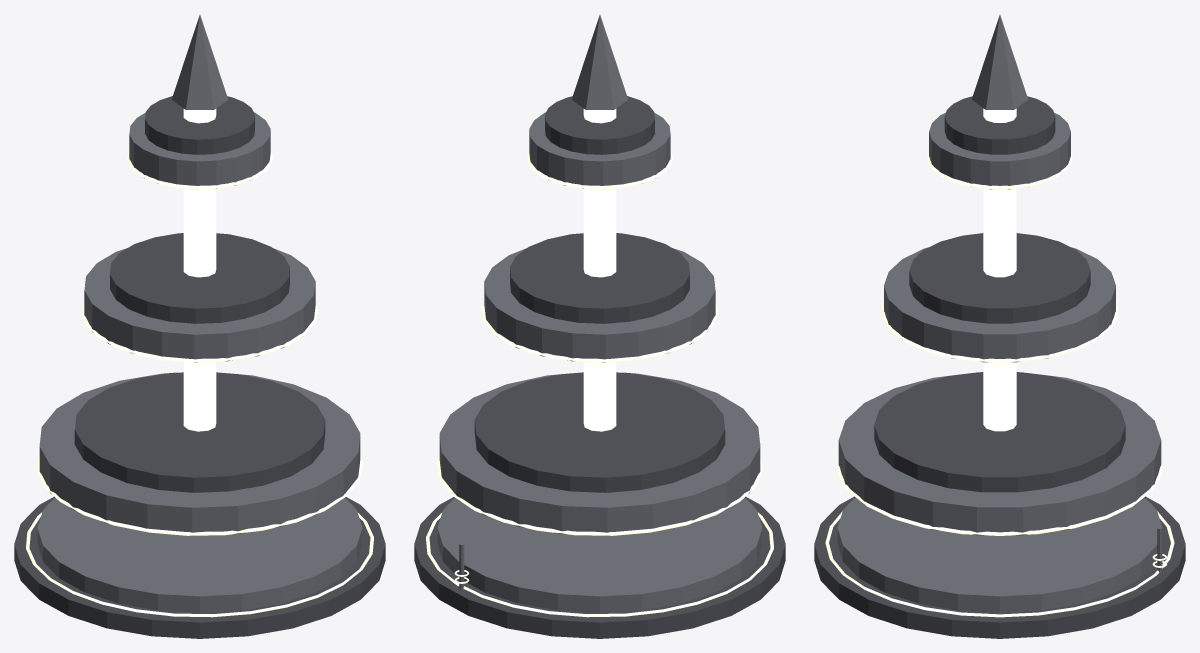
Rendered from zone_high_2_t2.glb.
3 views of the same model, side by side, from view 1: azimuth 30°, elevation 25°; view 2: azimuth 150°, elevation 25°; view 3: azimuth 270°, elevation 25° (orthographic).
Parts seen in each view (by area): view 1: zone_high_2_t2; view 2: zone_high_2_t2; view 3: zone_high_2_t2.
Part boxes in pixels (left/top/right/bottom): zone_high_2_t2: left=14, top=15, right=385, bottom=638; zone_high_2_t2: left=414, top=15, right=785, bottom=638; zone_high_2_t2: left=814, top=15, right=1185, bottom=638.
Size of the model in its own units: 28.8 by 46.76 by 28.8.
